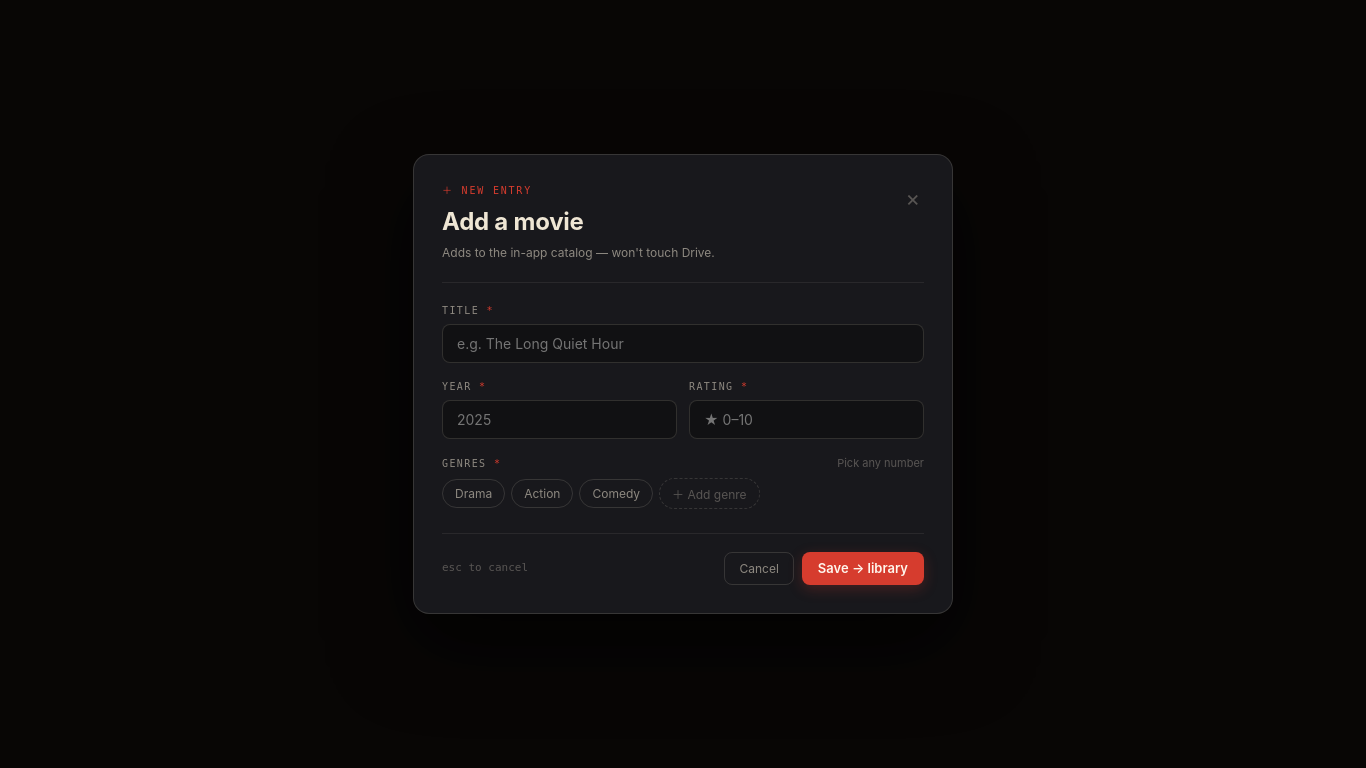
AddMovieModal › shows a year error when year field is empty
This screenshot has width=1366, height=768.
Type "Test" into the field with placeholder "e.g. The Long Quiet Hour" at point(683, 344), box [442,324,924,363]
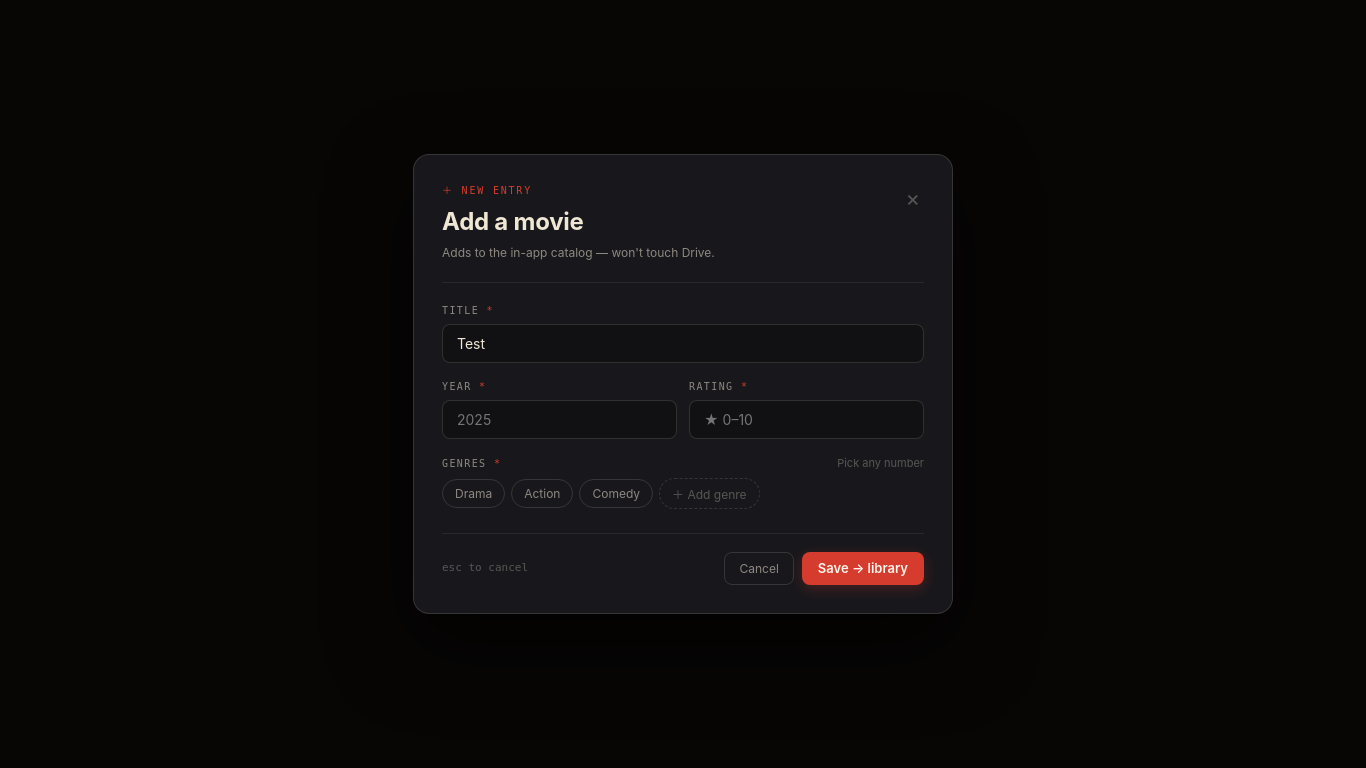
Click the button "Save → library" at point(863, 568), box [802,552,924,585]
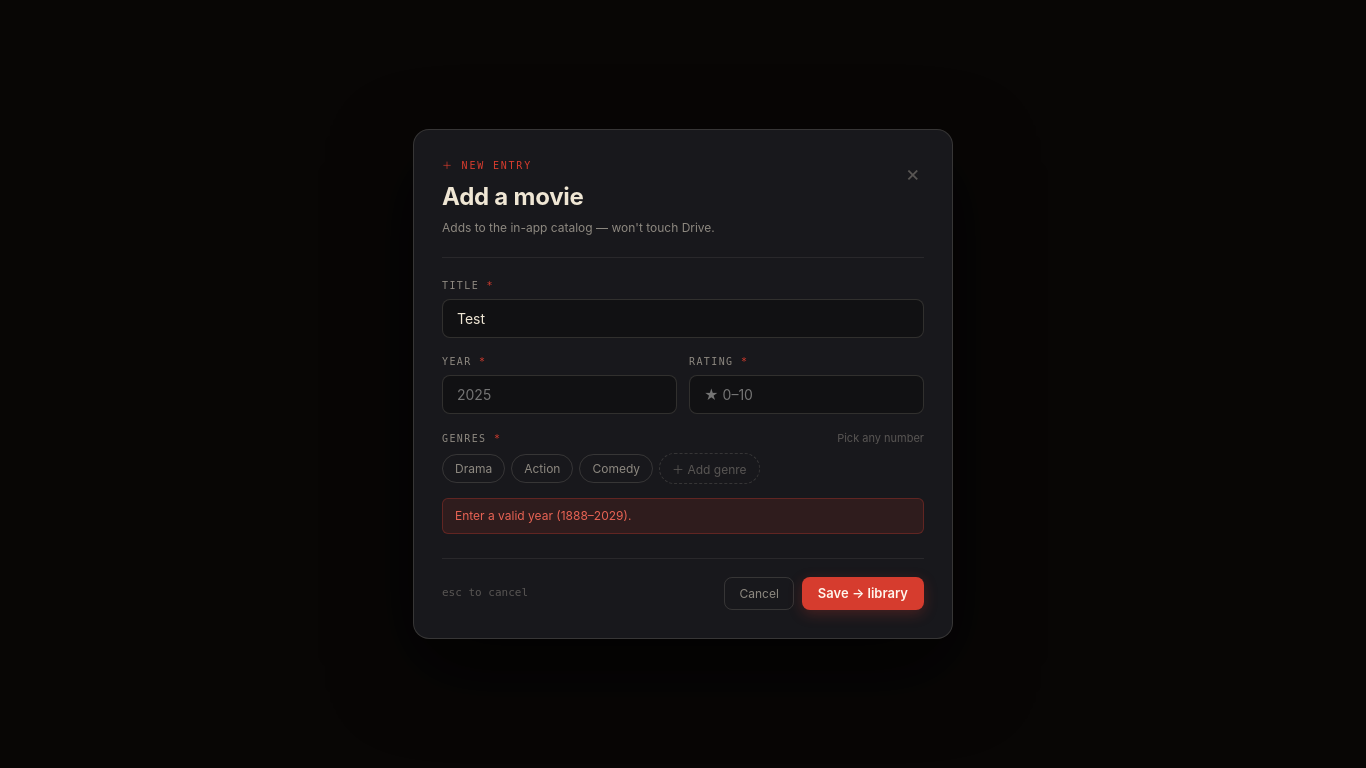
Now the text "Enter a valid year (1888–2029)." is shown, box [442,498,924,534]
